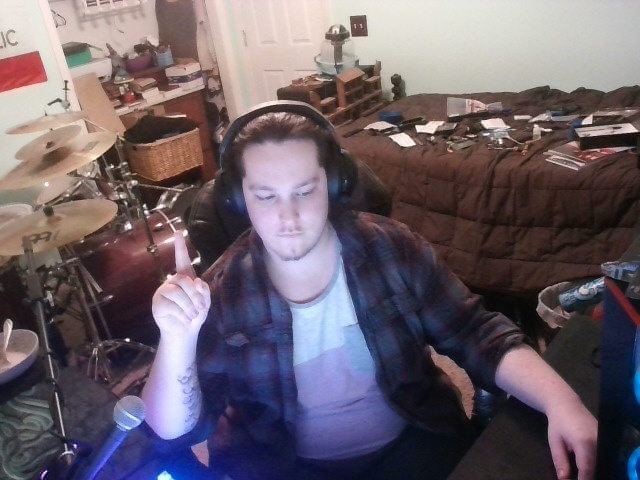up: (127, 212, 229, 346)
